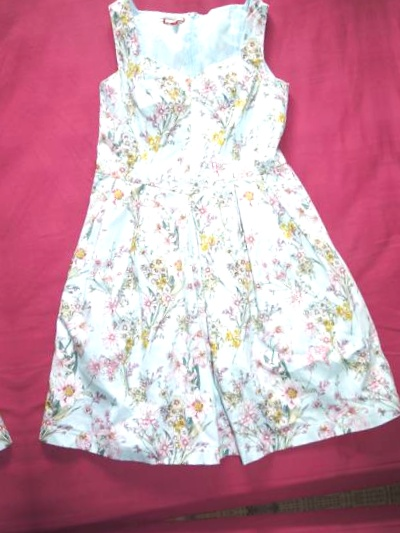Dress: (8, 0, 392, 472), (392, 0, 400, 428)
